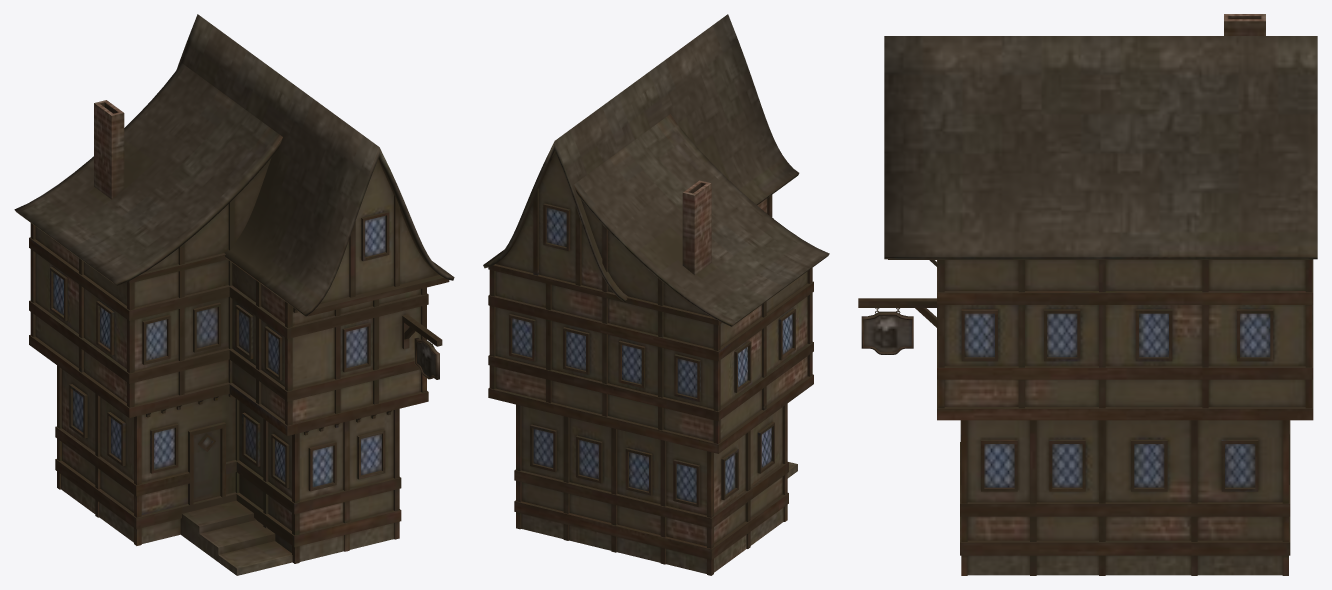
Rendered from casa_torre.glb.
3 views of the same model, side by side, from view 1: azimuth 30°, elevation 25°; view 2: azimuth 150°, elevation 25°; view 3: azimuth 270°, elevation 25° (orthographic). The views are drawn at different scales.
Parts seen in each view (by area): view 1: Medieval_House; view 2: Medieval_House; view 3: Medieval_House.
Part boxes in pixels (box(x1,y1,x2,y2)): Medieval_House: box(14, 14, 454, 575); Medieval_House: box(483, 14, 829, 575); Medieval_House: box(858, 14, 1317, 575).
Size of the model in its own units: 7.8 by 12.24 by 10.
1 material, 1 textured.
